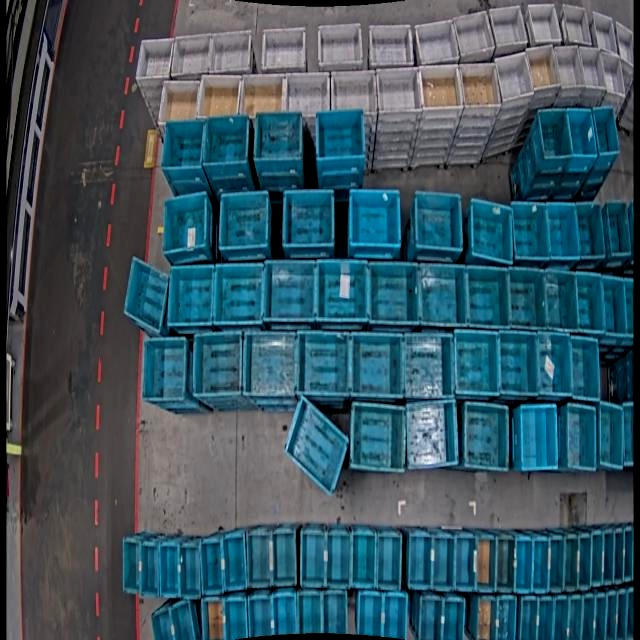Box: (284, 396, 350, 495), (189, 328, 245, 401), (348, 401, 405, 472), (296, 329, 352, 400), (260, 256, 318, 324), (243, 330, 301, 398), (119, 256, 170, 333), (216, 189, 272, 259), (347, 330, 403, 400), (138, 332, 192, 404), (315, 256, 371, 323), (212, 260, 268, 327), (405, 399, 458, 469), (281, 186, 337, 252), (368, 258, 420, 328), (346, 186, 401, 252), (160, 190, 210, 262), (401, 332, 455, 398), (411, 189, 463, 257), (166, 263, 218, 330), (450, 329, 500, 398), (462, 400, 510, 471), (416, 264, 466, 328), (466, 264, 511, 330), (468, 202, 513, 268), (316, 108, 368, 165), (498, 330, 540, 398), (255, 109, 304, 166), (201, 113, 250, 170), (159, 117, 205, 173), (506, 266, 546, 330), (543, 270, 583, 334), (317, 20, 366, 72), (259, 22, 308, 74), (520, 403, 558, 470), (512, 200, 552, 262), (375, 66, 422, 117), (196, 73, 243, 123), (328, 70, 377, 117), (413, 17, 458, 68), (284, 71, 332, 118), (538, 332, 572, 397), (368, 20, 414, 68), (158, 78, 202, 128), (453, 11, 494, 64), (237, 72, 285, 117), (457, 60, 501, 109), (524, 46, 559, 106), (545, 200, 580, 260), (208, 28, 251, 76), (419, 65, 461, 114), (488, 4, 526, 58), (497, 51, 534, 106), (535, 109, 573, 162), (567, 404, 596, 470), (575, 271, 606, 332), (568, 335, 598, 398), (576, 200, 607, 260), (552, 46, 584, 103), (595, 404, 624, 466), (600, 276, 629, 337), (601, 200, 631, 257), (566, 108, 596, 160), (350, 530, 376, 590), (407, 531, 433, 591), (577, 47, 608, 97), (220, 533, 246, 592), (376, 532, 402, 591), (301, 528, 326, 589), (272, 528, 297, 588), (452, 532, 477, 592), (558, 5, 592, 49), (526, 3, 558, 49), (245, 531, 270, 589), (327, 531, 352, 588), (428, 532, 452, 591), (592, 106, 619, 157), (475, 533, 498, 592), (514, 533, 535, 593), (323, 586, 349, 634), (590, 14, 619, 57), (492, 534, 513, 592), (140, 538, 160, 598), (357, 591, 382, 637), (383, 594, 408, 640), (168, 599, 196, 640), (199, 542, 220, 595), (179, 545, 200, 598), (418, 596, 443, 640), (122, 536, 140, 596), (247, 597, 273, 638), (160, 539, 178, 598), (532, 534, 550, 593), (272, 592, 296, 636), (223, 599, 248, 640), (298, 591, 321, 635), (442, 598, 465, 640), (494, 597, 516, 640), (562, 534, 578, 592), (575, 533, 591, 590), (476, 597, 497, 640), (519, 595, 539, 640), (549, 537, 565, 593), (202, 599, 223, 640), (590, 532, 605, 588), (600, 531, 615, 586), (537, 596, 555, 640), (622, 402, 634, 467), (616, 588, 631, 640), (151, 607, 173, 640), (553, 595, 569, 640), (568, 593, 583, 640), (603, 590, 617, 640), (613, 528, 625, 584), (594, 591, 607, 640), (582, 593, 595, 640), (624, 526, 634, 583)
